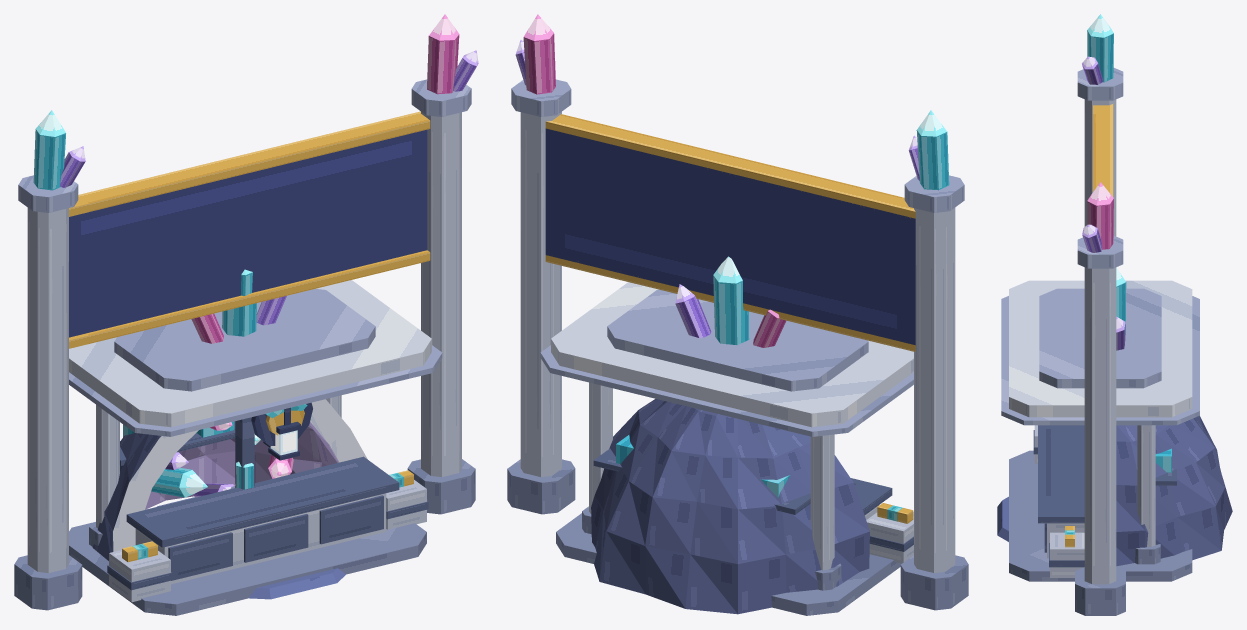
The model's file is crystal-props.glb.
The picture shows the model from 3 angles, left to right: view 1: azimuth 30°, elevation 25°; view 2: azimuth 150°, elevation 25°; view 3: azimuth 270°, elevation 25°; orthographic projection. The views are drawn at different scales.
Parts seen in each view (by area): view 1: Board, Roof, Upright, RoofCap, Upright.001, Shell, CounterTop, Deck, BoardTrim, BoardTrimLow, RoofTrim, UprightFoot (+21 smaller); view 2: Board, Shell, Roof, Upright, RoofCap, Upright.001, BoardTrim, Deck, RoofTrim, Post, UprightFoot, UprightFoot.001 (+12 smaller); view 3: Roof, Shell, Upright.001, RoofCap, Deck, CounterTop, RoofTrim, Post.001, UprightFoot.001, BoardTrim, Upright, CapCrystal (+10 smaller).
Part boxes in pixels (x1,y1,x2,y2): Board: (69,129,427,337); Roof: (69,280,431,427); Upright: (27,208,68,572); RoofCap: (114,288,375,391); Upright.001: (421,112,461,476); Shell: (92,399,367,560); CounterTop: (126,456,399,547); Deck: (69,497,426,615); BoardTrim: (69,111,430,216); BoardTrimLow: (69,250,430,348); RoofTrim: (69,345,442,436); UprightFoot: (14,555,82,610); Board: (545,128,915,345); Shell: (591,398,869,614); Roof: (551,282,913,427); Upright: (914,208,955,572); RoofCap: (607,289,868,391); Upright.001: (520,112,561,476); BoardTrim: (545,114,915,218); Deck: (556,513,901,615); RoofTrim: (540,345,913,436); Post: (810,434,834,570); UprightFoot: (900,555,968,610); UprightFoot.001: (507,459,575,514); Roof: (1009,280,1192,417); Shell: (1116,415,1232,566); Upright.001: (1084,267,1116,584); RoofCap: (1039,288,1161,388); Deck: (1009,450,1192,581); CounterTop: (1038,425,1084,523); RoofTrim: (1001,296,1199,425); Post.001: (1137,425,1155,546); UprightFoot.001: (1075,567,1125,615); BoardTrim: (1093,104,1113,196); Upright: (1084,99,1116,236); CapCrystal: (1087,14,1113,82).
Bounding box in the file's own units: 8.9 × 9.23 × 4.62.
Materials: 2 (2 with a texture image).
